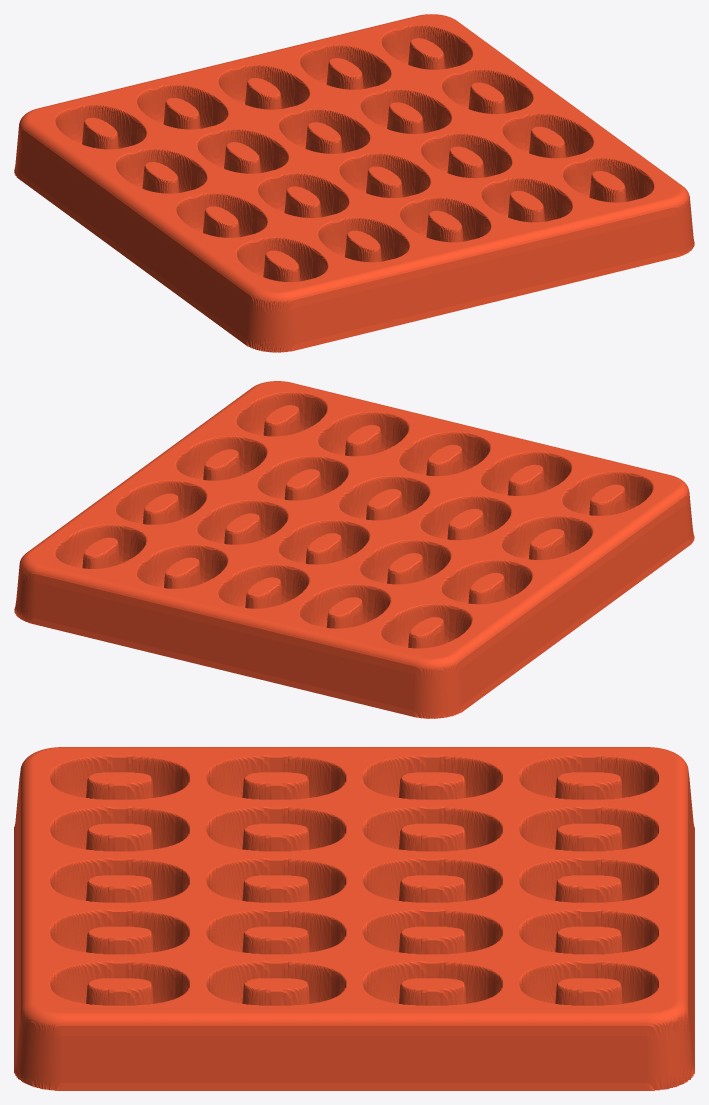
The model's file is mold.glb.
3 renders of one model, top to bottom at view 1: azimuth 30°, elevation 25°; view 2: azimuth 150°, elevation 25°; view 3: azimuth 270°, elevation 25°, orthographic. The views are drawn at different scales.
Visible parts, largest first — view 1: geometry_0; view 2: geometry_0; view 3: geometry_0.
Boxes of the visible parts, x1=… form: geometry_0: x1=14, y1=14, x2=694, y2=352; geometry_0: x1=14, y1=381, x2=694, y2=718; geometry_0: x1=14, y1=747, x2=694, y2=1090.
Size of the model in its own units: 0.1246 by 0.0145 by 0.1278.
